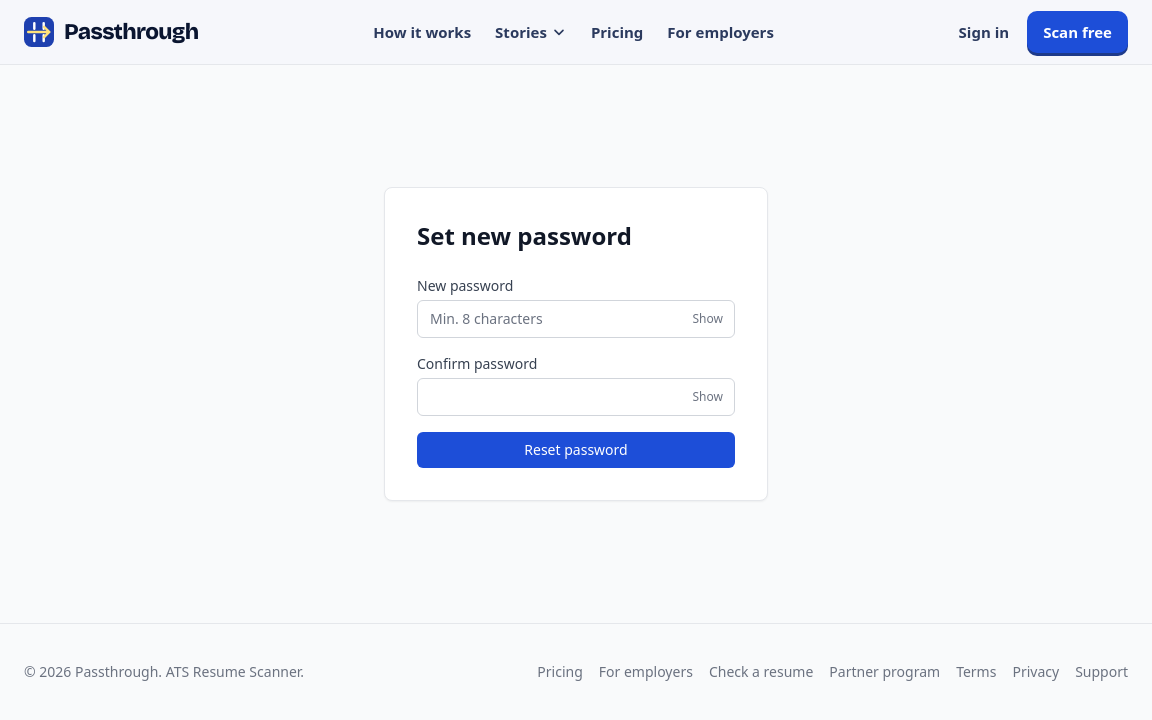
ResetPassword — a session this browser still holds › a failed reset does not touch the session
Expected: the heading "Set new password" is shown, [417,219,632,252]
Type "correct-horse-battery-9" into the password field labelled "New password".
click(576, 319); type("correct-horse-battery-9")  # box [417,300,735,338]
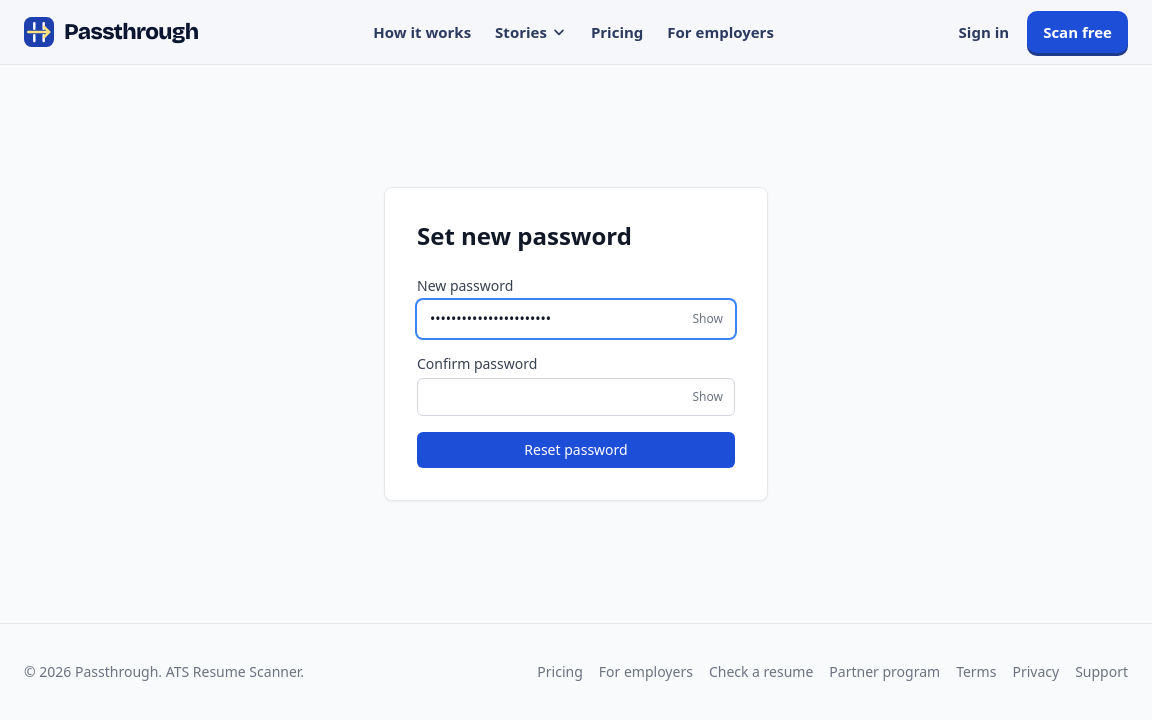
Type "correct-horse-battery-9" into the password field labelled "Confirm password".
click(576, 397); type("correct-horse-battery-9")  # box [417,378,735,416]
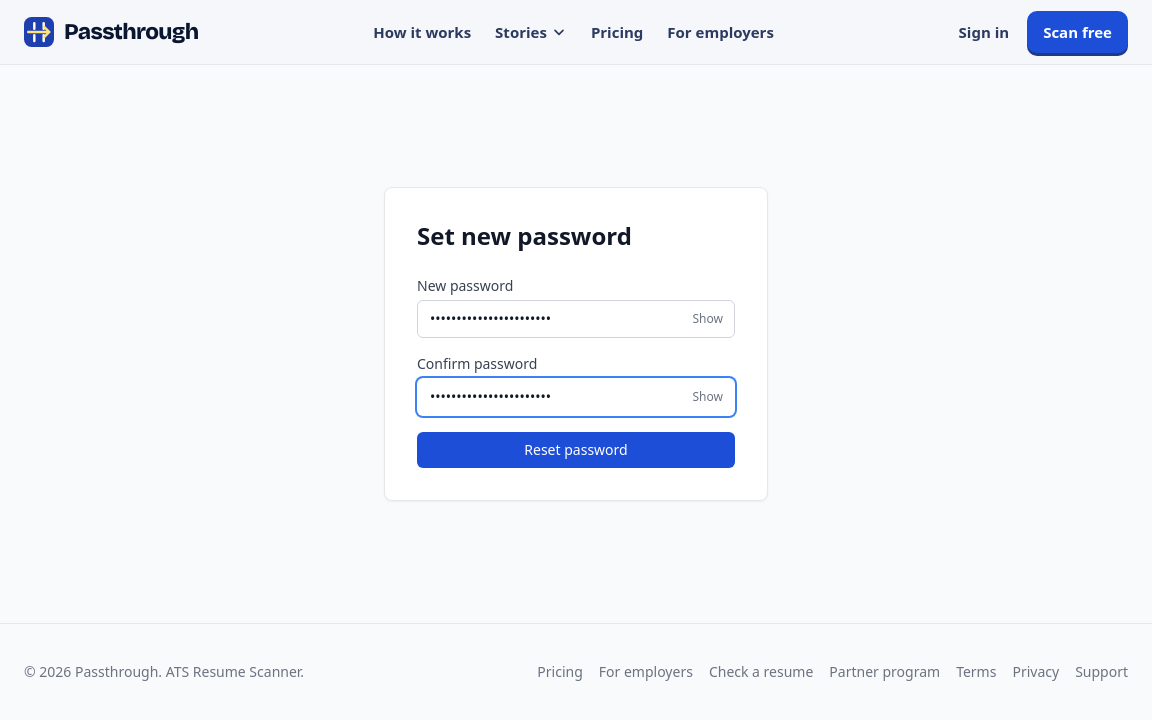
Click the button "Reset password".
click(576, 450)  # box [417,432,735,468]
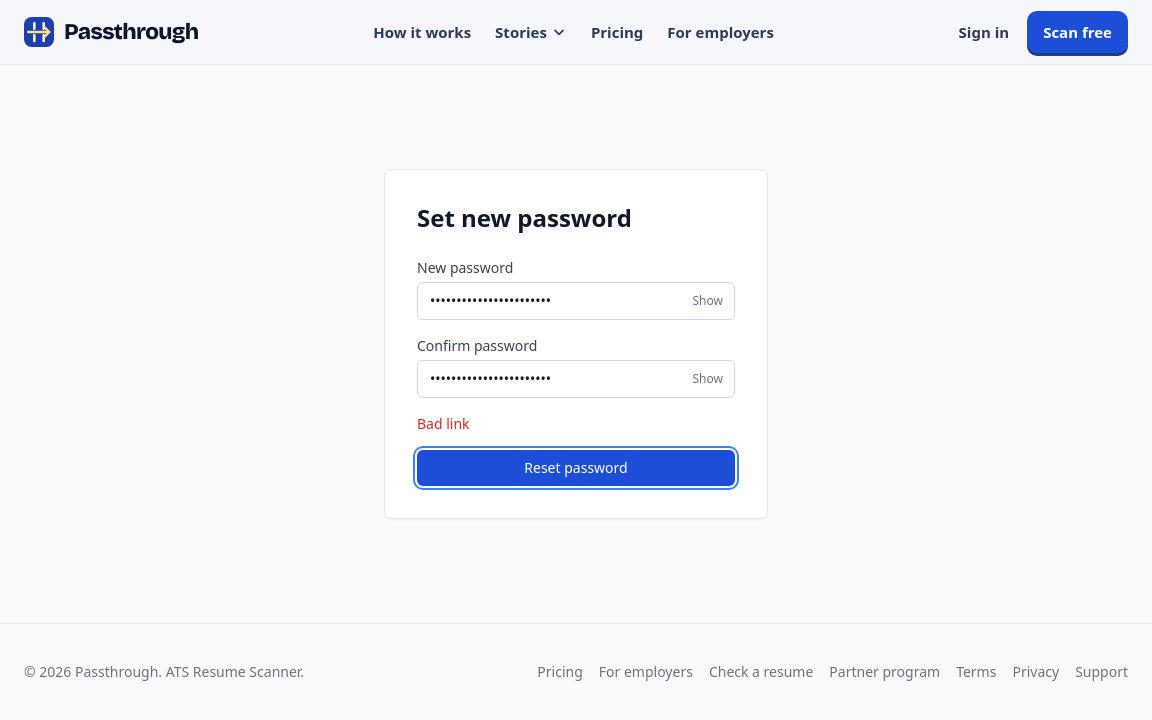
Expected: the text "Bad link" is shown, [417,414,470,433]
